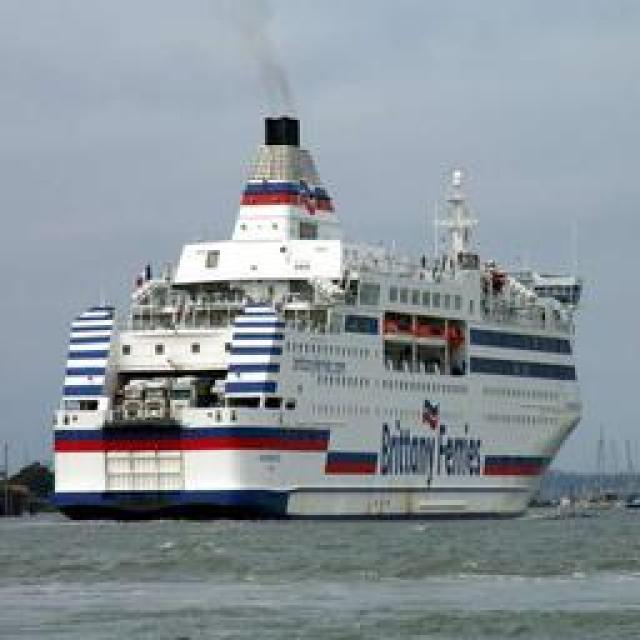CIV_Ship: (44, 88, 588, 520)
